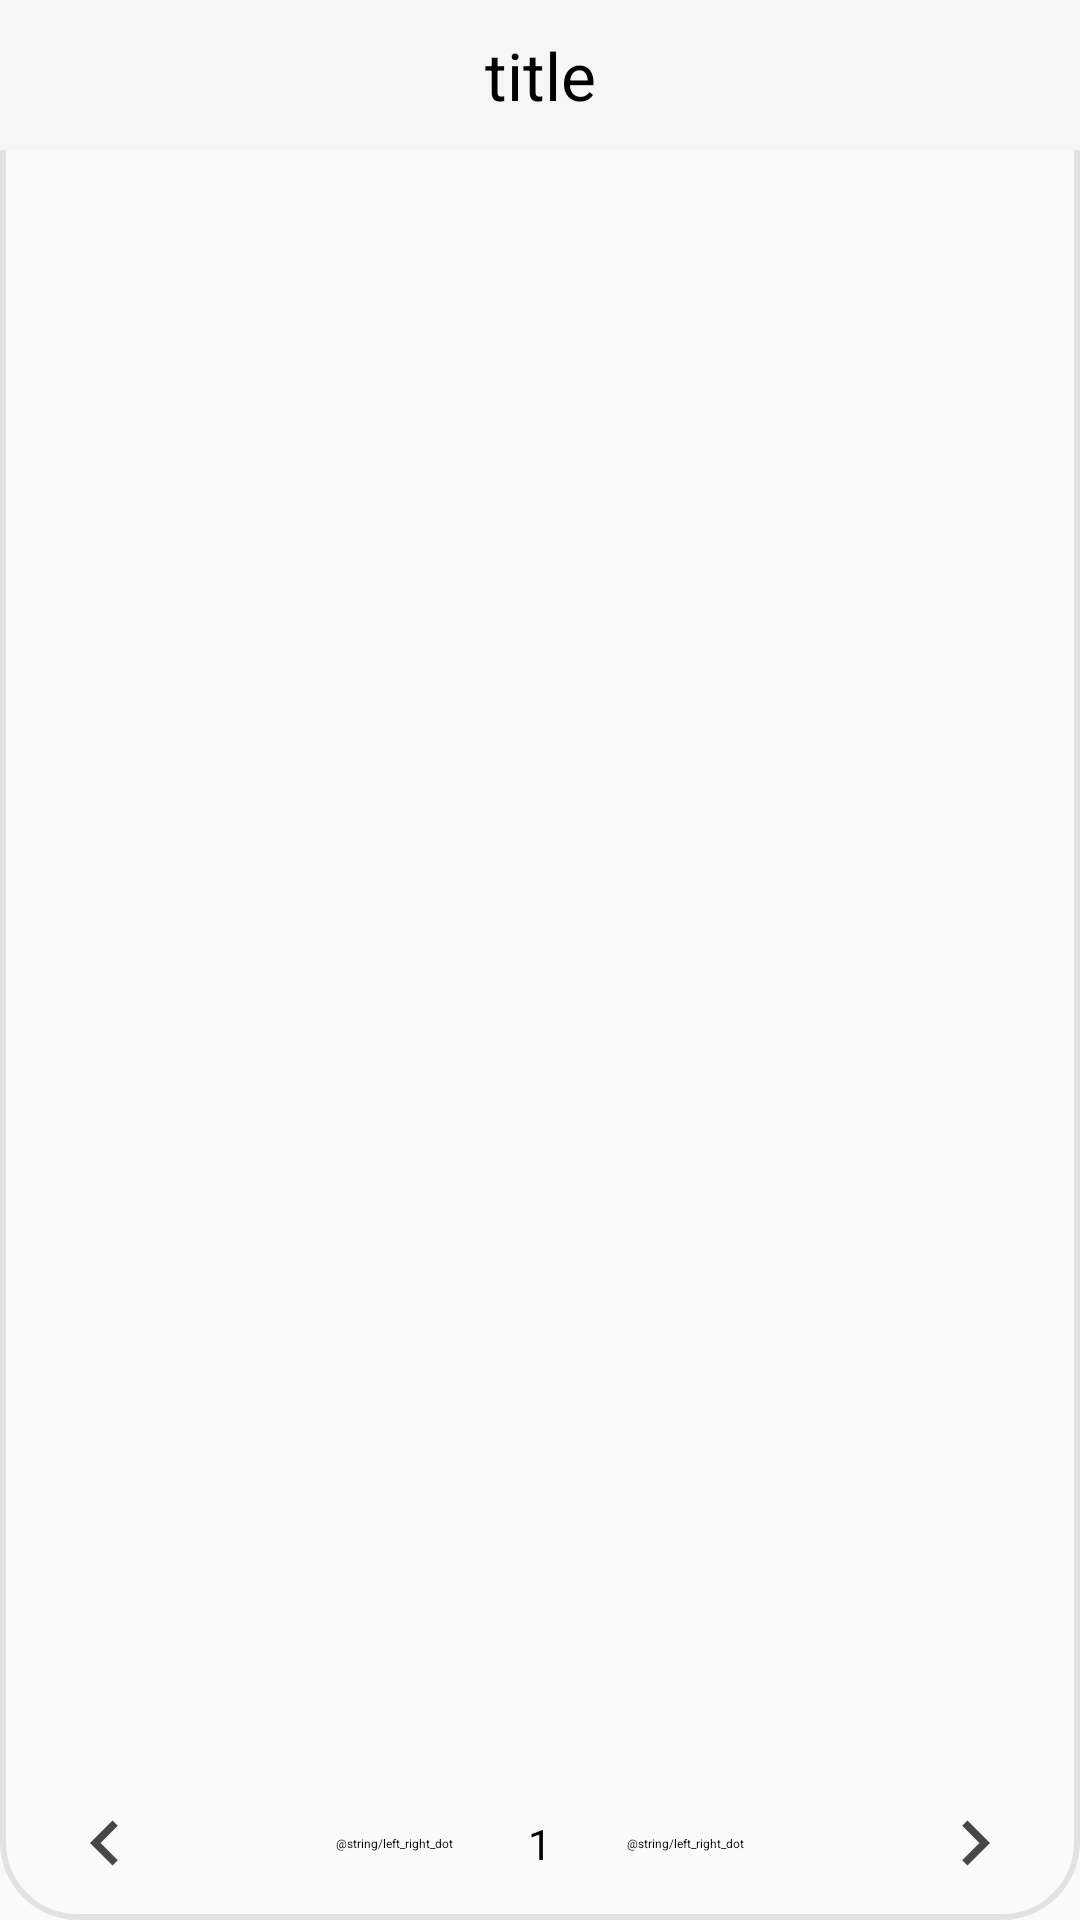

Where icons sit on this 1080w x 1920h app screen, as (x1=x1, y1=y1, x2=x2, y2=y2):
chevron left: (x1=90, y1=1820, x2=118, y2=1866)
chevron right: (x1=962, y1=1820, x2=990, y2=1866)
